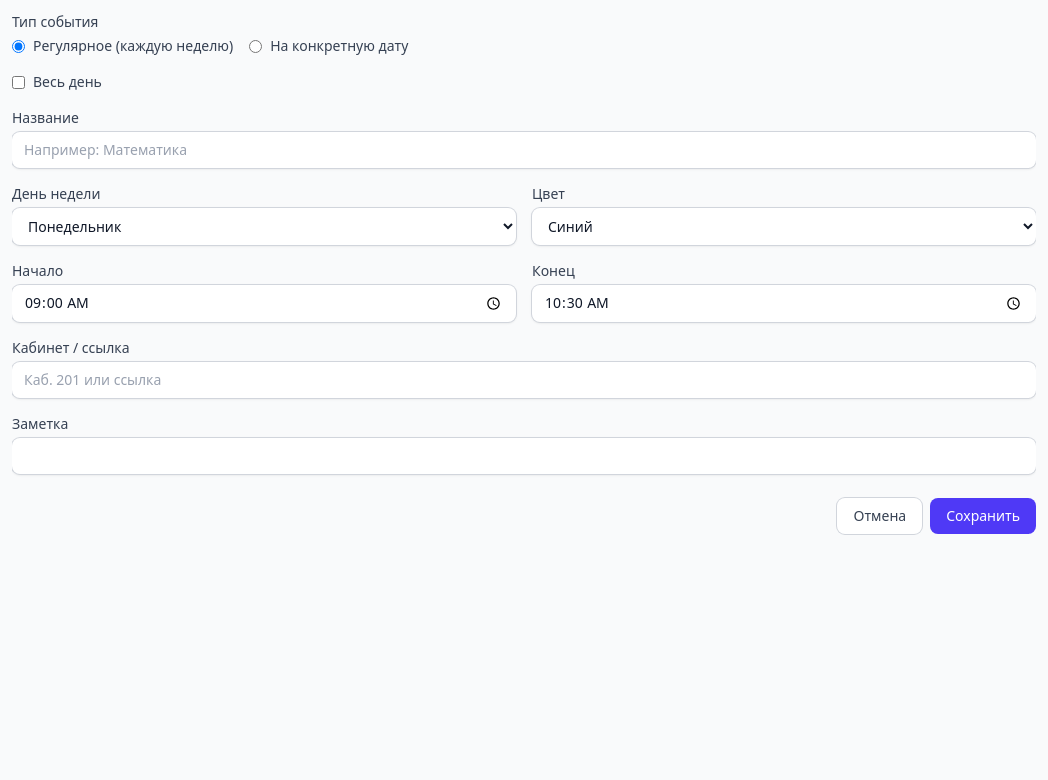
Test: LessonForm › hides the time inputs when the whole-day checkbox is on
This screenshot has width=1048, height=780.
expect the time field labelled "Начало" is shown: met, box [12, 285, 516, 322]
Click the checkbox labelled "Весь день" at (18,82), box [12, 76, 25, 88]
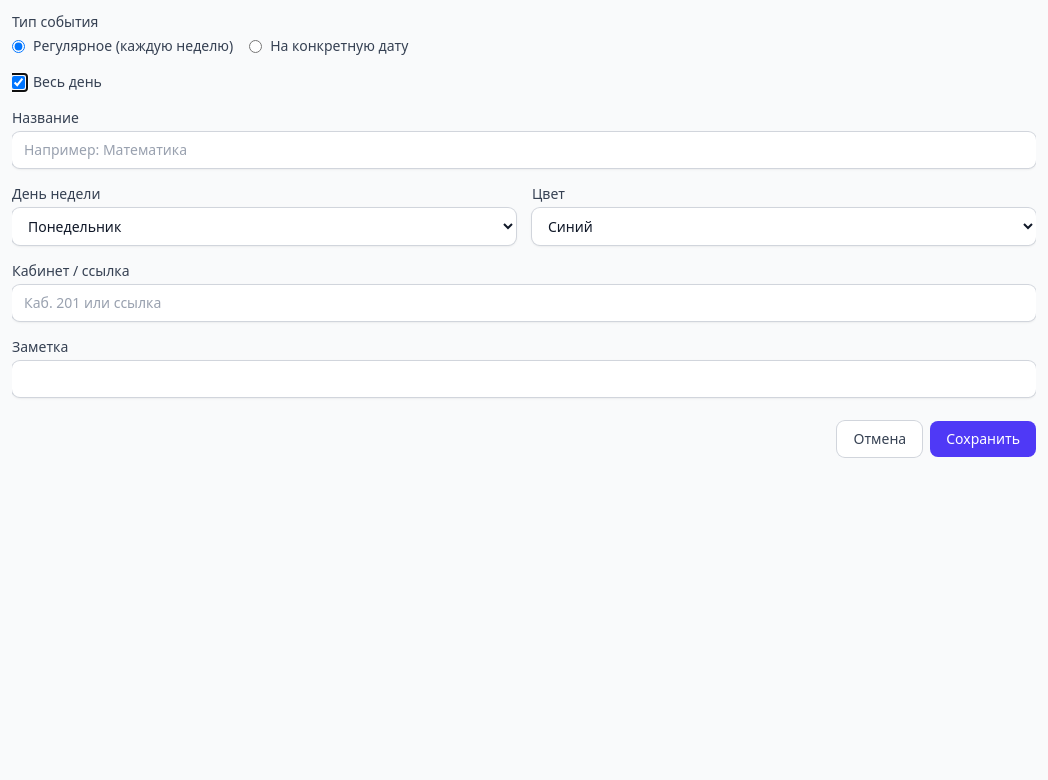
expect the text labelled "Начало" is gone: met
expect the text labelled "Конец" is gone: met
